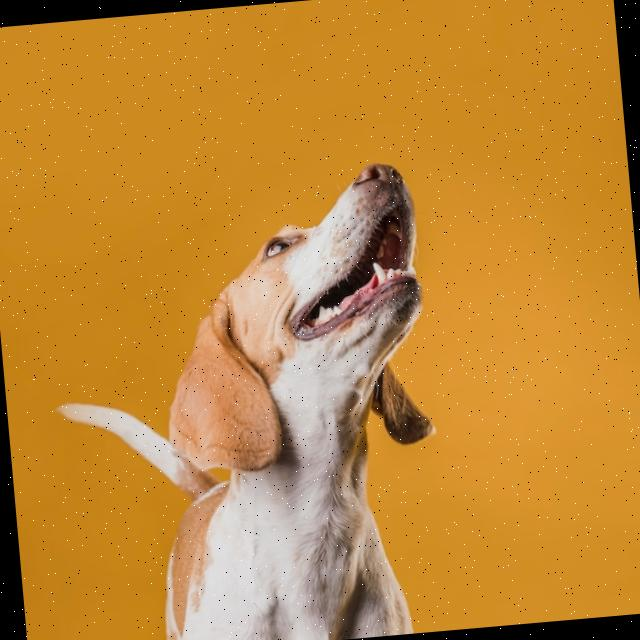Dog: (39, 159, 452, 640)
